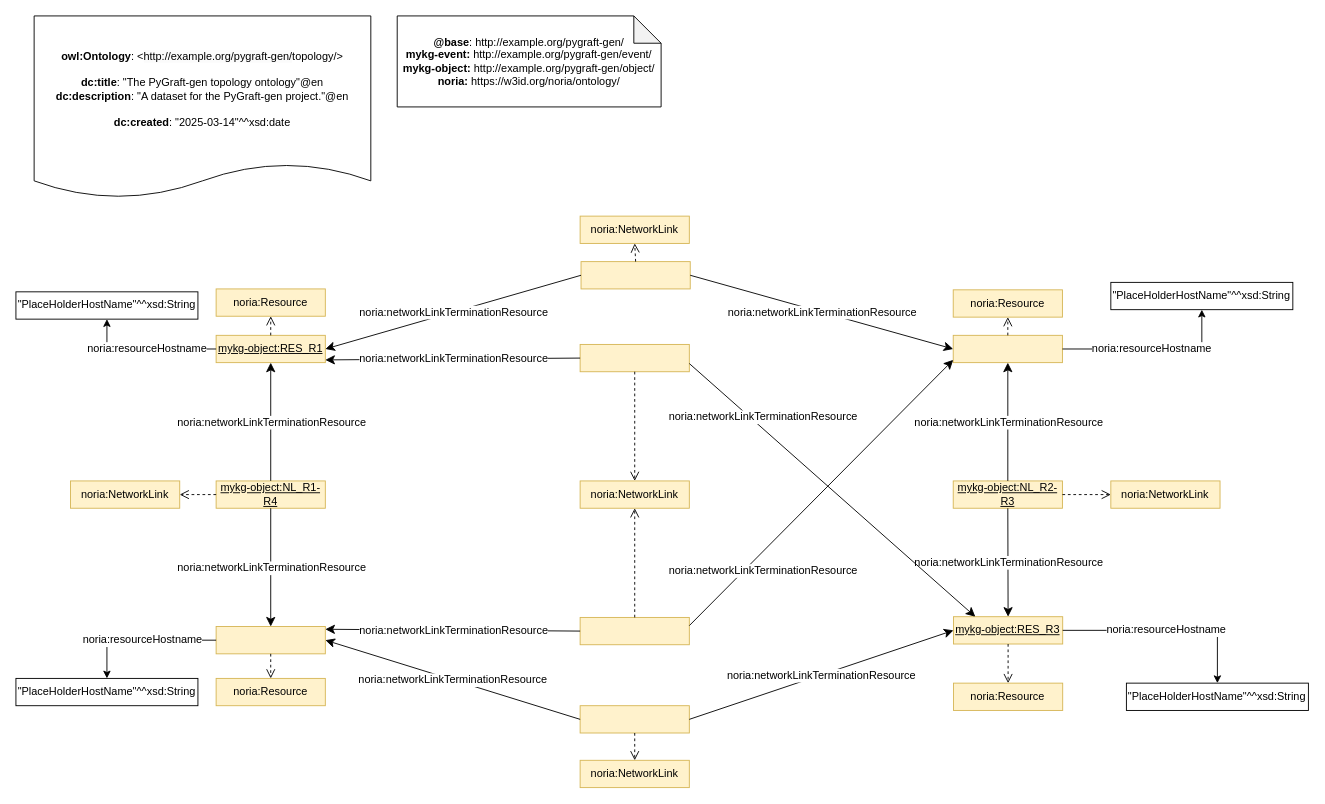
This 1325x804 diagram has some shape labels left out. Each missing label, with the centre of its shape:
"mykg-object:NL_R1-R2" goes at (635,275).
"mykg-object:NL_R1-R3" goes at (634,358).
"mykg-object:NL_R2-R4" goes at (634,631).
"mykg-object:NL_R3-R4" goes at (634,719).
"mykg-object:RES_R2" goes at (1007,348).
"mykg-object:RES_R4" goes at (270,640).
